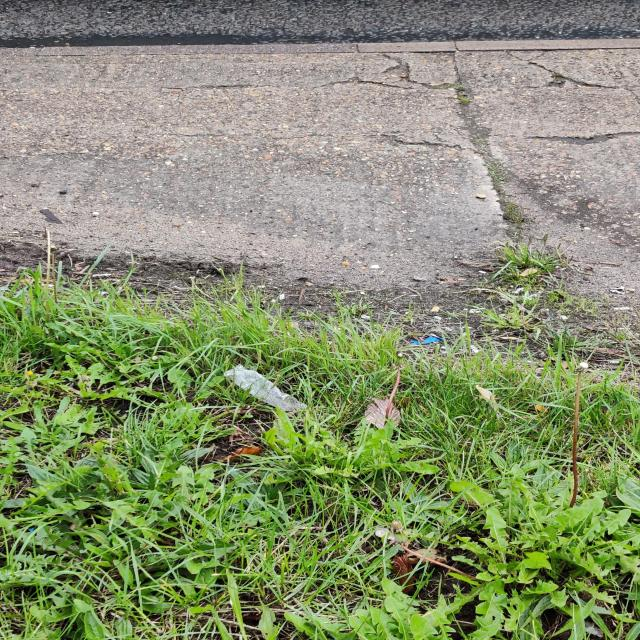litter: (218, 358, 315, 420)
